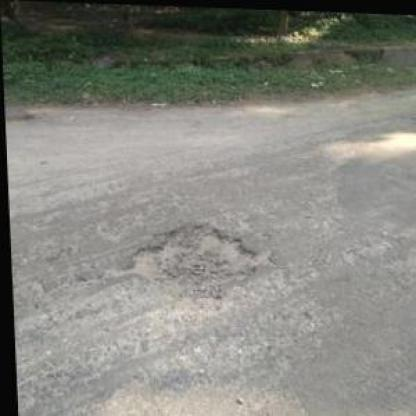pothole: (115, 218, 277, 300)
